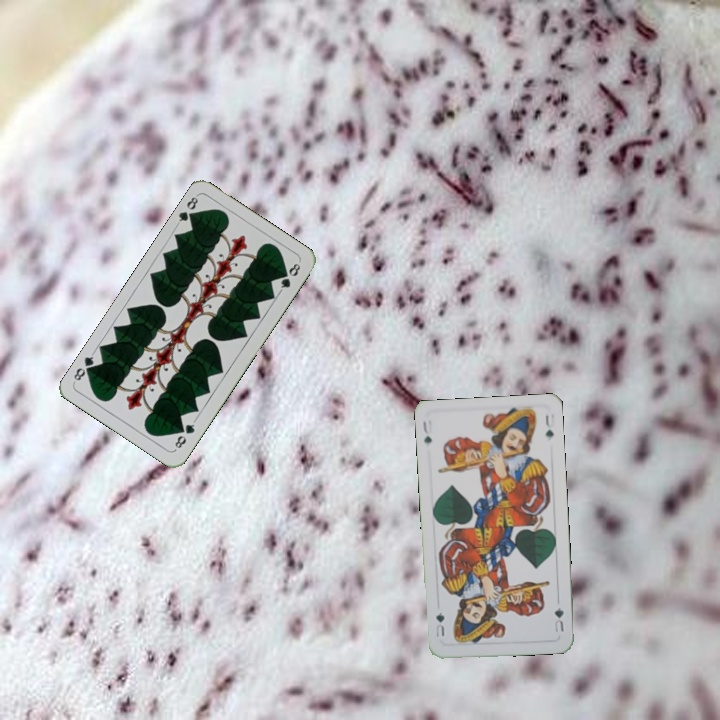G8: (173, 191, 201, 227), (171, 416, 198, 452)
GU: (550, 603, 566, 635), (419, 416, 435, 446)
